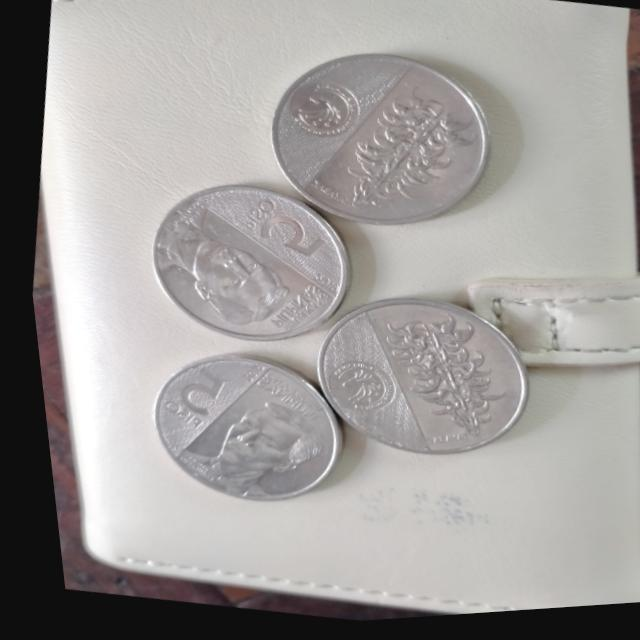5_New_Back: (347, 299, 520, 470), (314, 83, 480, 250)
5_New_Front: (219, 187, 338, 279), (136, 360, 222, 443)
